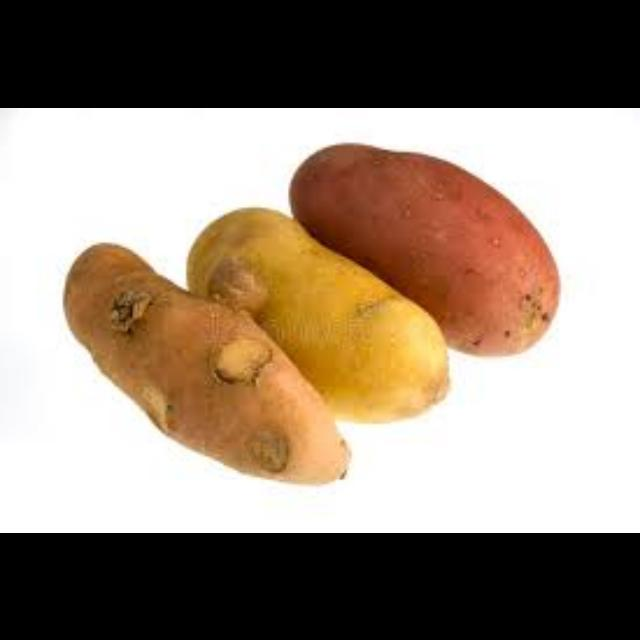Damaged potato: (47, 240, 355, 488)
Defected potato: (282, 140, 566, 362)
Diseased-fungal potato: (192, 198, 454, 420)
